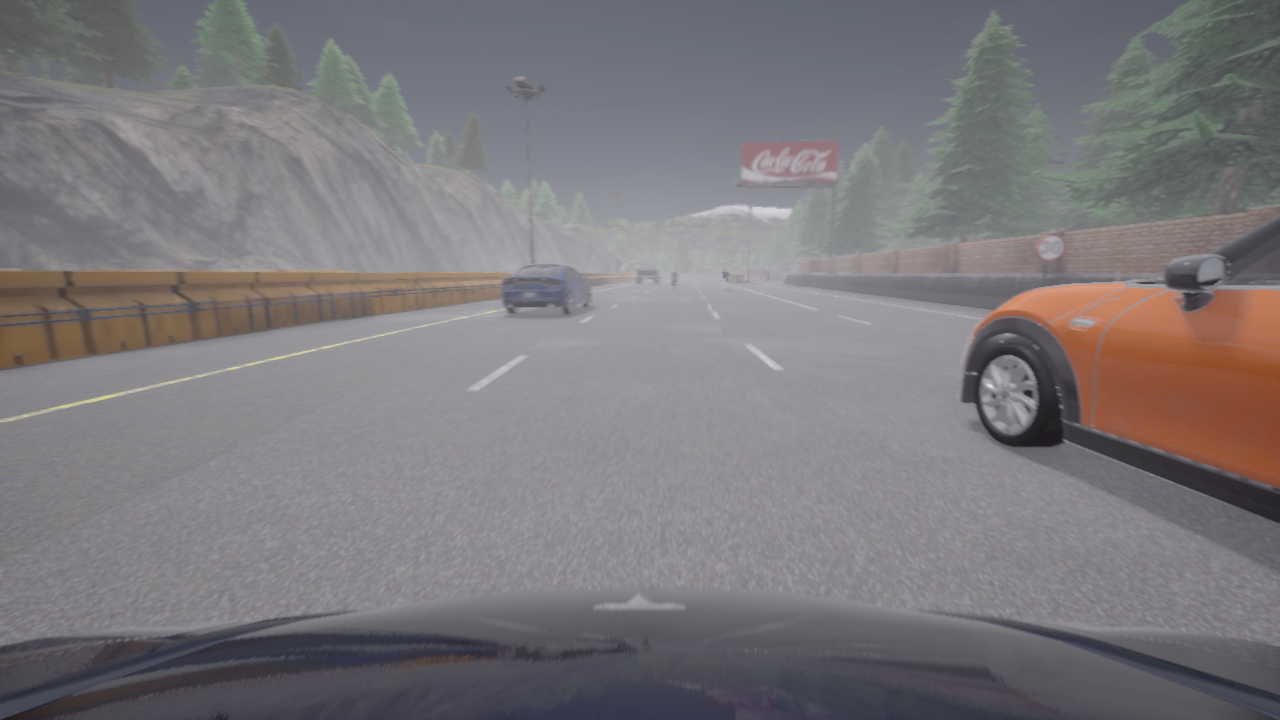cyclist: (0, 588, 1279, 719), (959, 215, 1279, 523), (502, 262, 590, 314), (635, 265, 660, 283), (672, 275, 677, 289), (722, 278, 727, 290)
